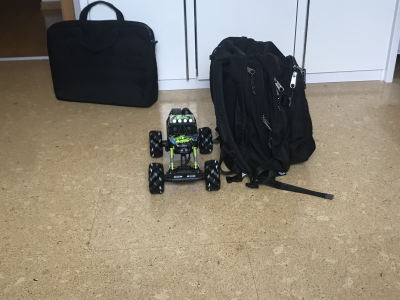remote control car: (142, 105, 223, 199)
